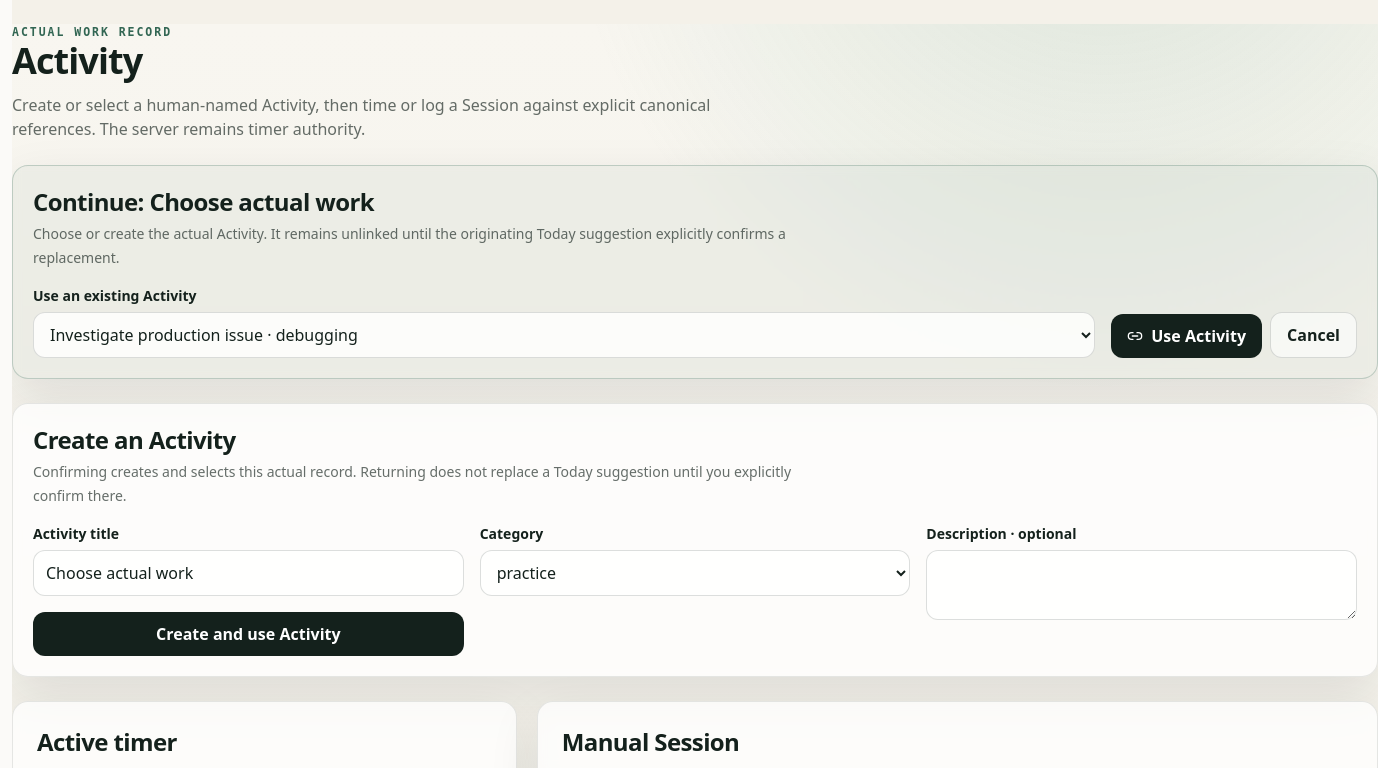
Test case: V2 Activity handoff › returns an unlinked Today Activity without inferring a relation
The image size is (1378, 768).
Click the button "Use Activity".
click(1187, 336)  # box left=1111, top=314, right=1262, bottom=358
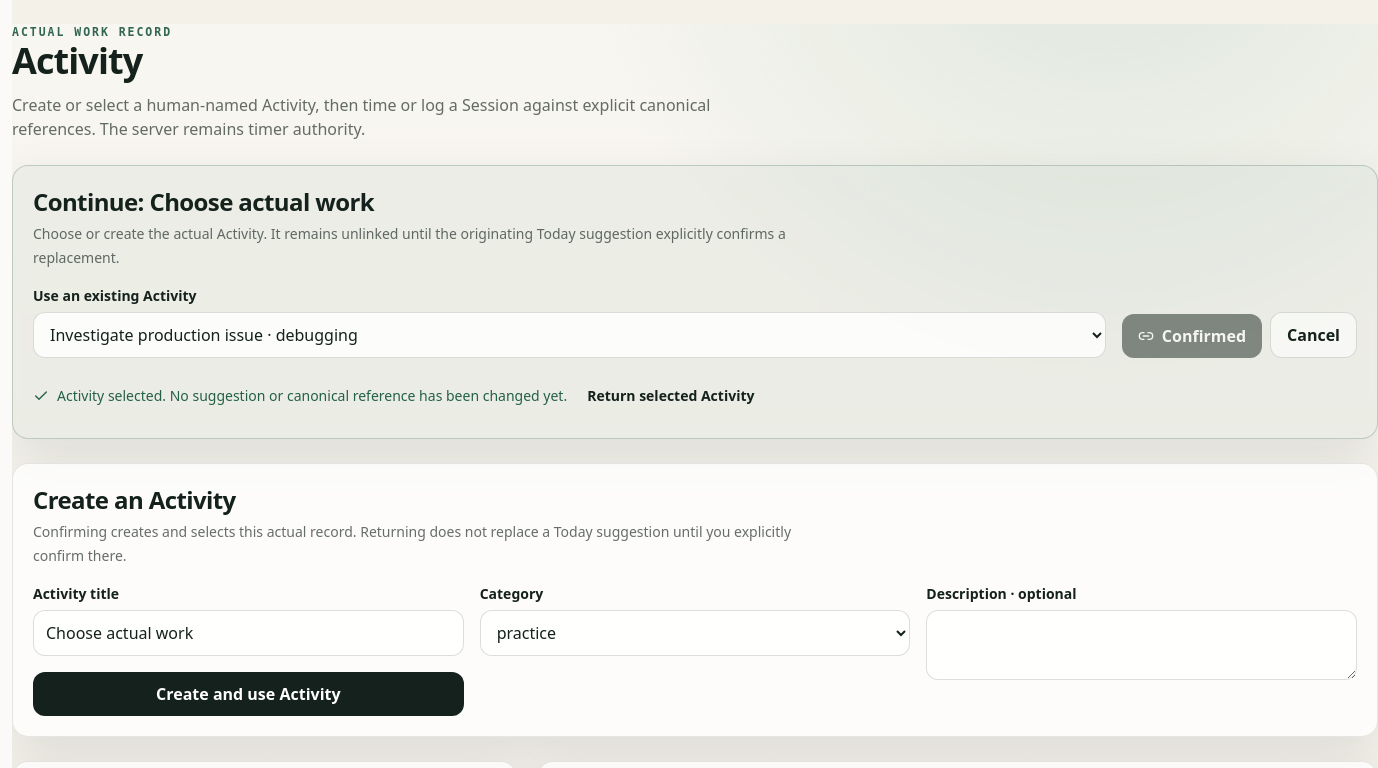
Check: the text "No suggestion or canonical reference has been changed yet" is shown, box left=57, top=386, right=567, bottom=405
